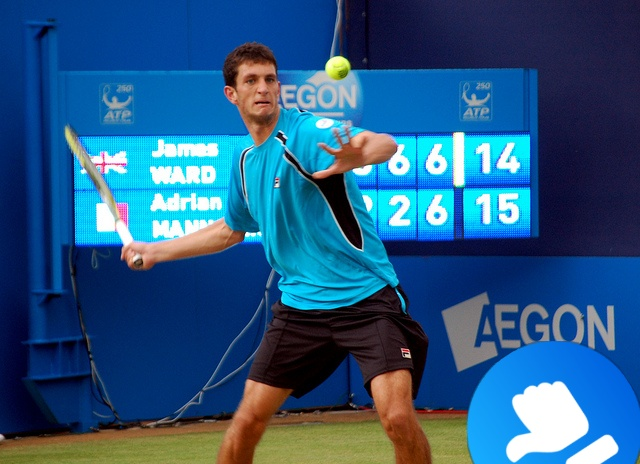like: (467, 341, 640, 464)
